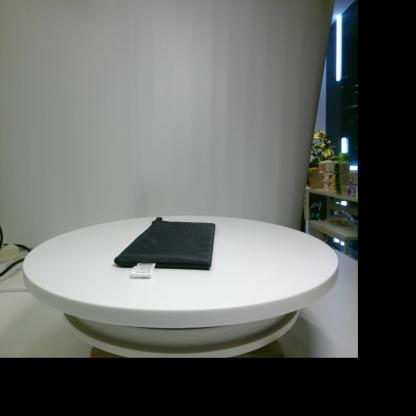Stationery: (114, 217, 216, 277)
